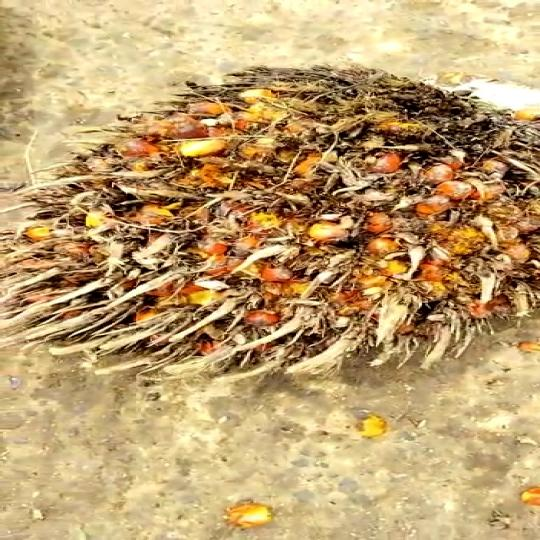terlalu masak: (0, 65, 540, 376)
